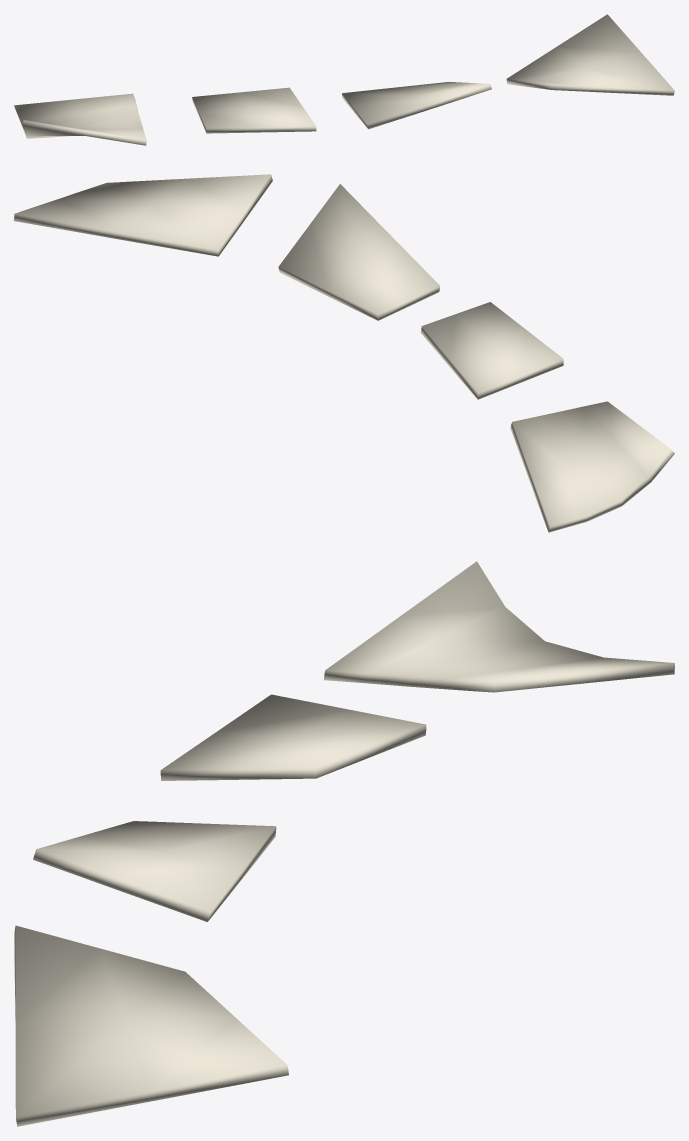
3 renders of one model, top to bottom at view 1: azimuth 30°, elevation 25°; view 2: azimuth 150°, elevation 25°; view 3: azimuth 270°, elevation 25°, orthographic. The views are drawn at different scales.
Parts seen in each view (by area): view 1: ZA_82adfa25b22bb678; view 2: ZA_82adfa25b22bb678; view 3: ZA_82adfa25b22bb678.
Part boxes in pixels (left/top/right/bottom): ZA_82adfa25b22bb678: left=14, top=14, right=674, bottom=145; ZA_82adfa25b22bb678: left=14, top=174, right=674, bottom=532; ZA_82adfa25b22bb678: left=14, top=561, right=674, bottom=1126.
Size of the model in its own units: 0.0541 by 0.00659 by 0.0288.
